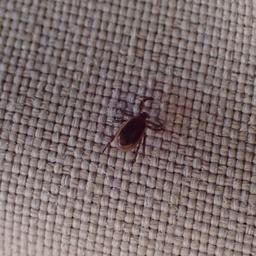Ixodes scapularis: (101, 102, 166, 158)
